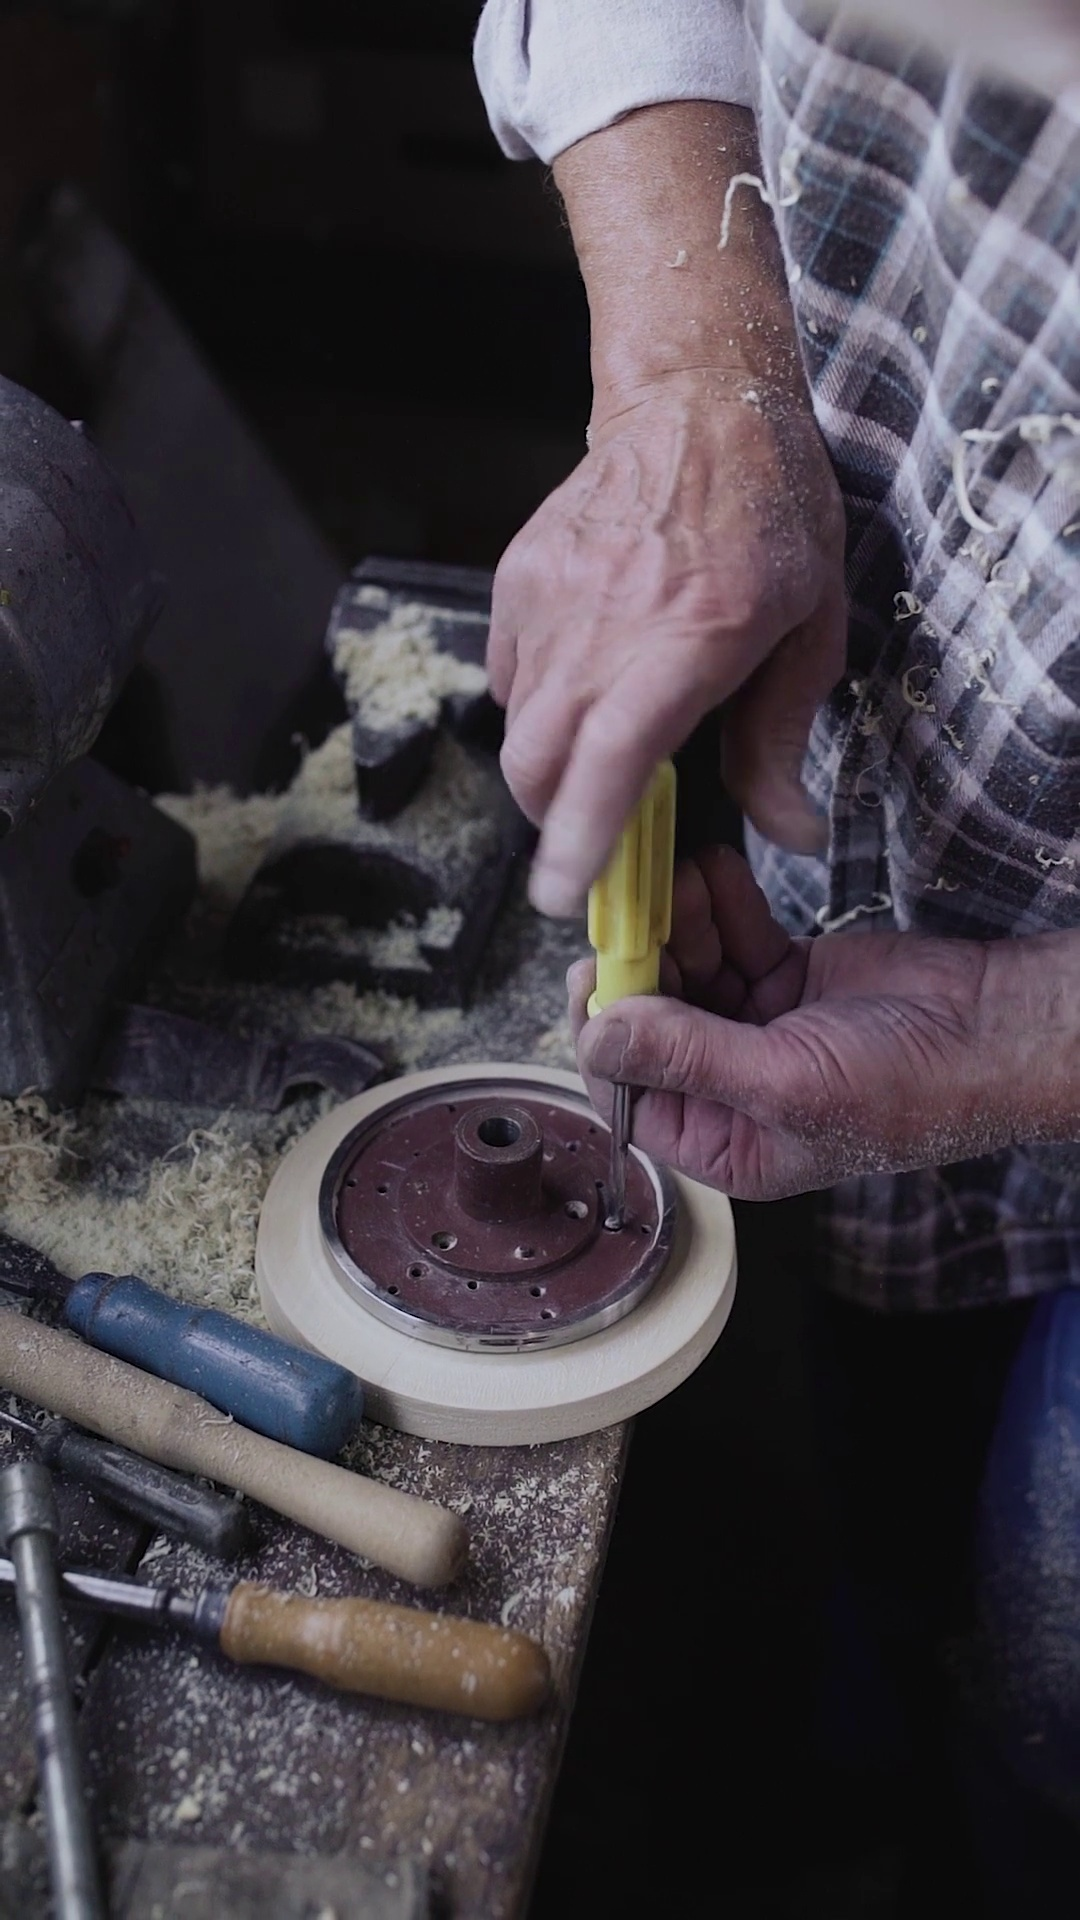screwdriver: (576, 752, 682, 1220)
